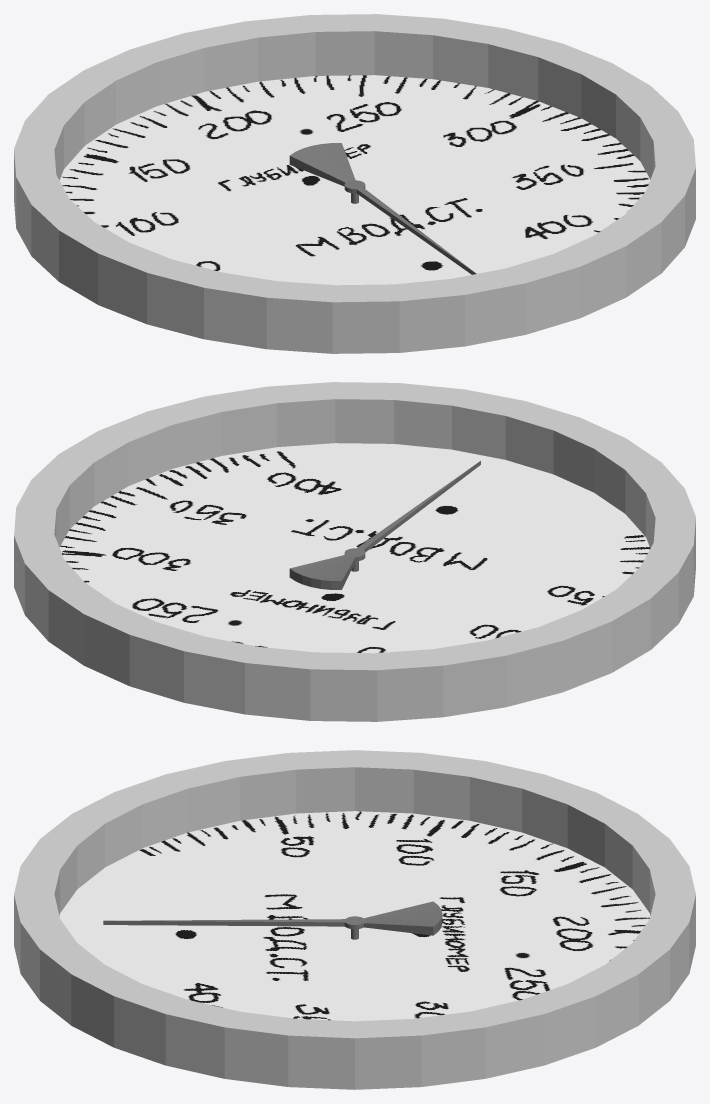
Rendered from Альтиметр.fbx.
3 views of the same model, one above another, from view 1: azimuth 30°, elevation 25°; view 2: azimuth 150°, elevation 25°; view 3: azimuth 270°, elevation 25° (orthographic).
Visible parts, largest first — view 1: Альтиметръ, Стрелка; view 2: Альтиметръ, Стрелка; view 3: Альтиметръ, Стрелка.
Boxes of the visible parts, x1,y1,x2,y2 form: Альтиметръ: (14,14,695,353); Стрелка: (289,143,476,274); Альтиметръ: (14,382,695,721); Стрелка: (289,461,480,589); Альтиметръ: (14,750,695,1089); Стрелка: (103,901,442,939).
Bounding box in the file's own units: 0.1 × 0.00833 × 0.1.
3 materials, 1 textured.
